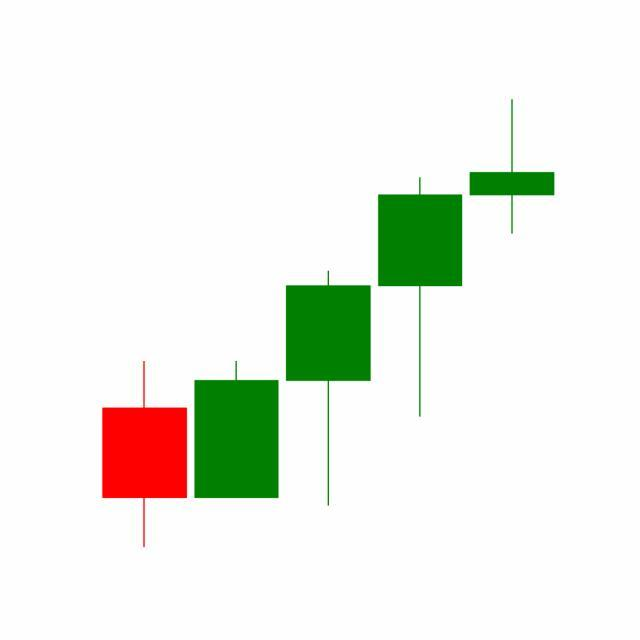Spinning Top: (466, 99, 559, 237)
